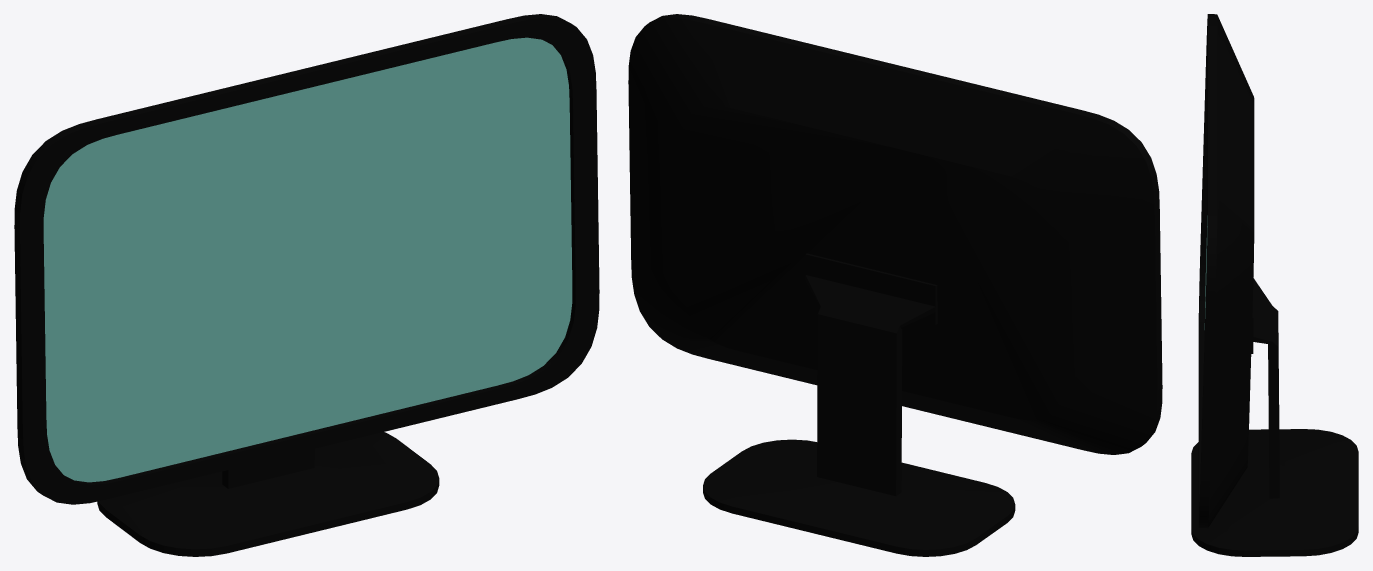
The model's file is monitorfix.fbx.
The picture shows the model from 3 angles, left to right: view 1: azimuth 30°, elevation 25°; view 2: azimuth 150°, elevation 25°; view 3: azimuth 270°, elevation 25°; orthographic projection. The views are drawn at different scales.
Parts seen in each view (by area): view 1: display; view 2: display; view 3: display.
Part boxes in pixels (x1,y1,x2,y2): display: (14, 14, 599, 556); display: (628, 14, 1162, 556); display: (1191, 14, 1358, 556).
Bounding box in the file's own units: 324 × 242 × 95.6.
